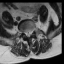CCS_normal: (27, 30, 29, 39)
LFS_normal: (31, 27, 34, 34)
LLS_normal: (29, 29, 31, 38)
RFS_normal: (22, 29, 25, 35)
RLS_normal: (25, 30, 27, 38)
